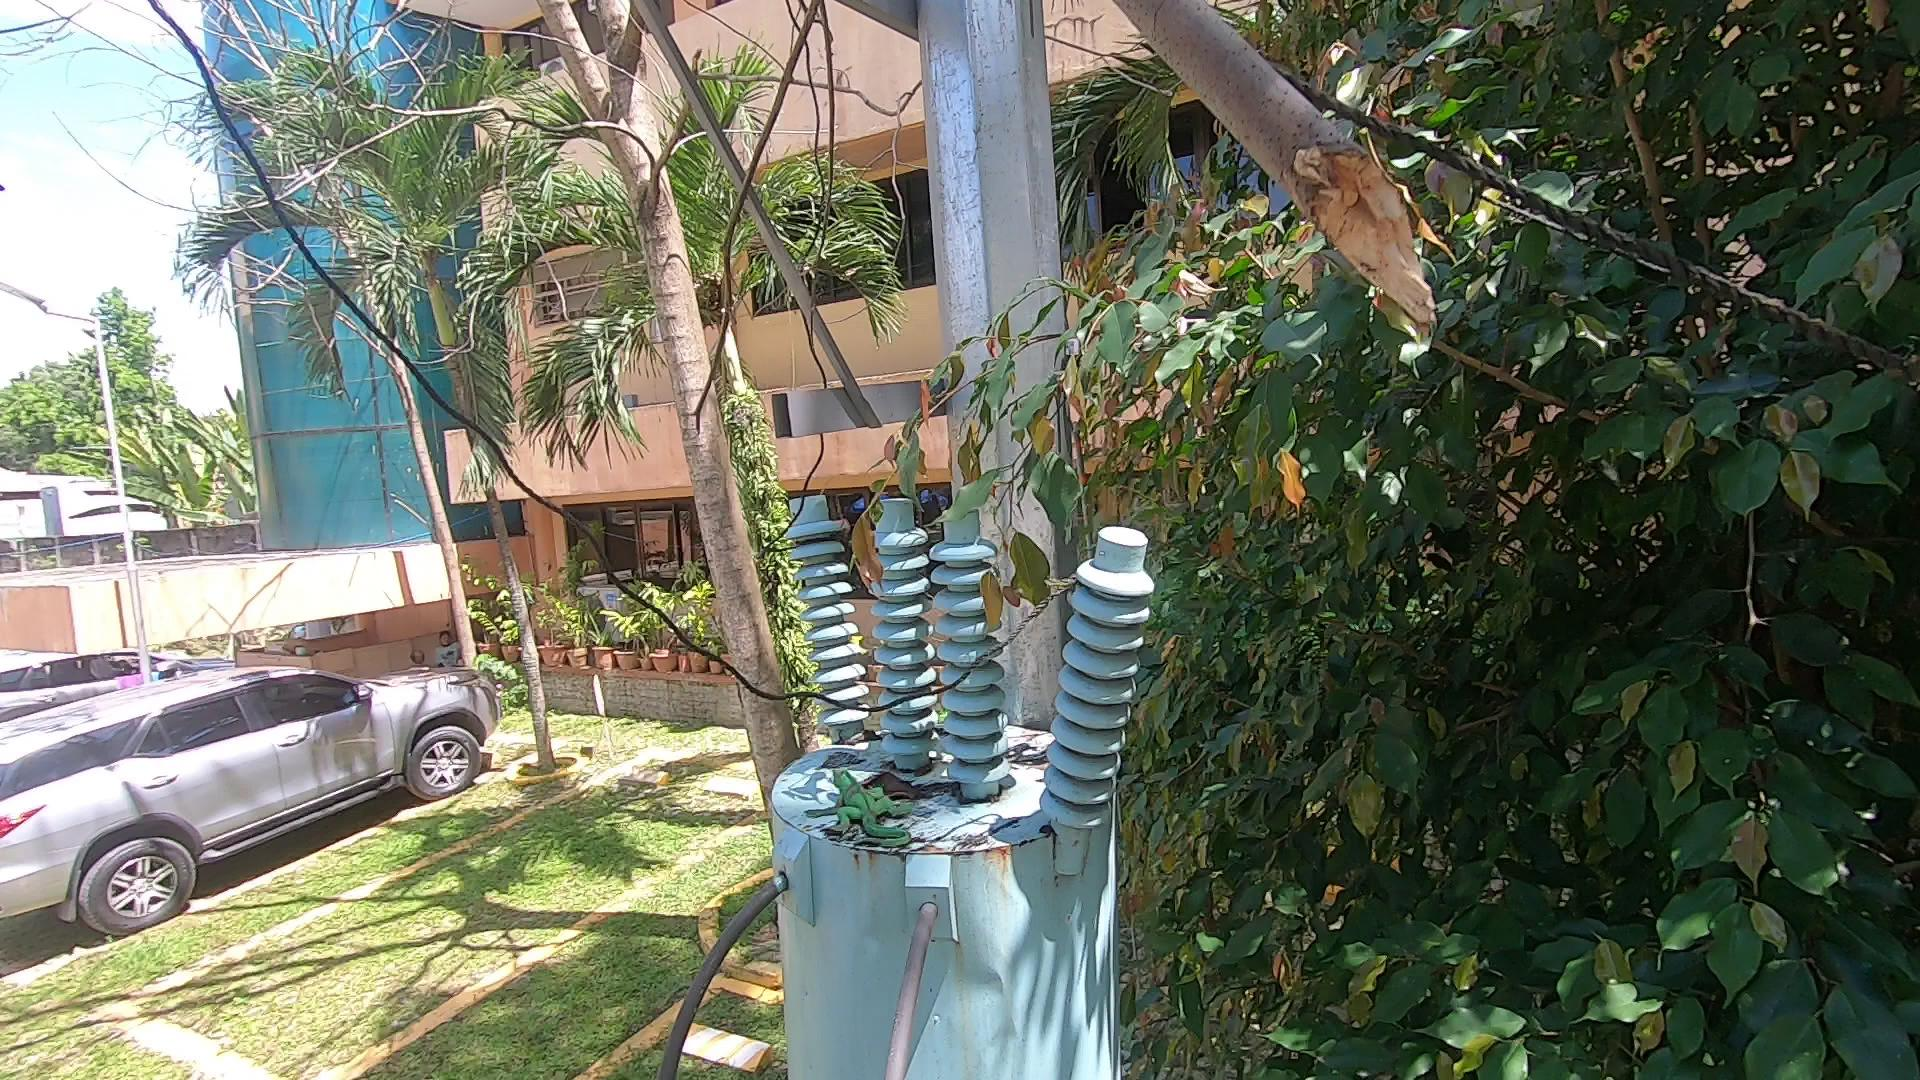branch with leaves: (869, 319, 1108, 625)
leaf: (861, 773, 947, 810), (997, 735, 1044, 769), (824, 728, 876, 753)
tree branch: (1120, 7, 1486, 345)
